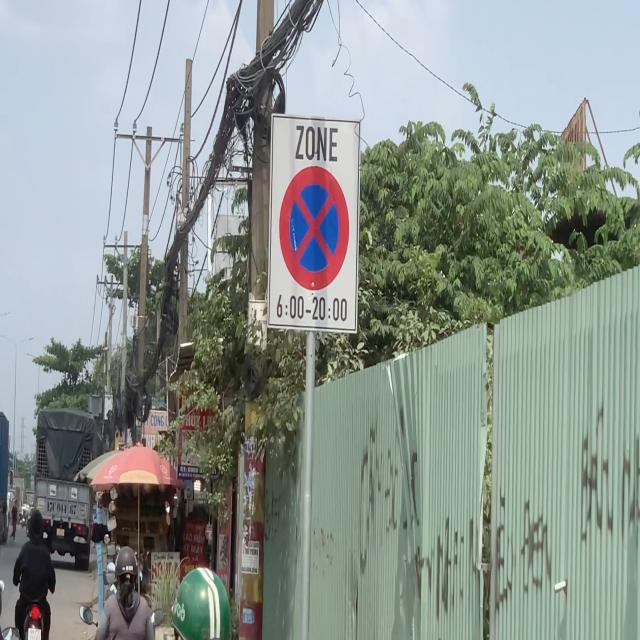Cam dung va do: (279, 165, 350, 291)
